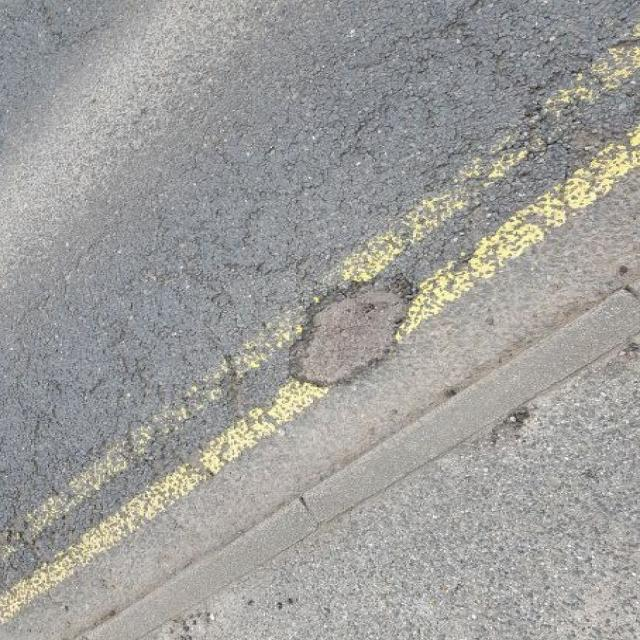pothole: (278, 268, 420, 388)
